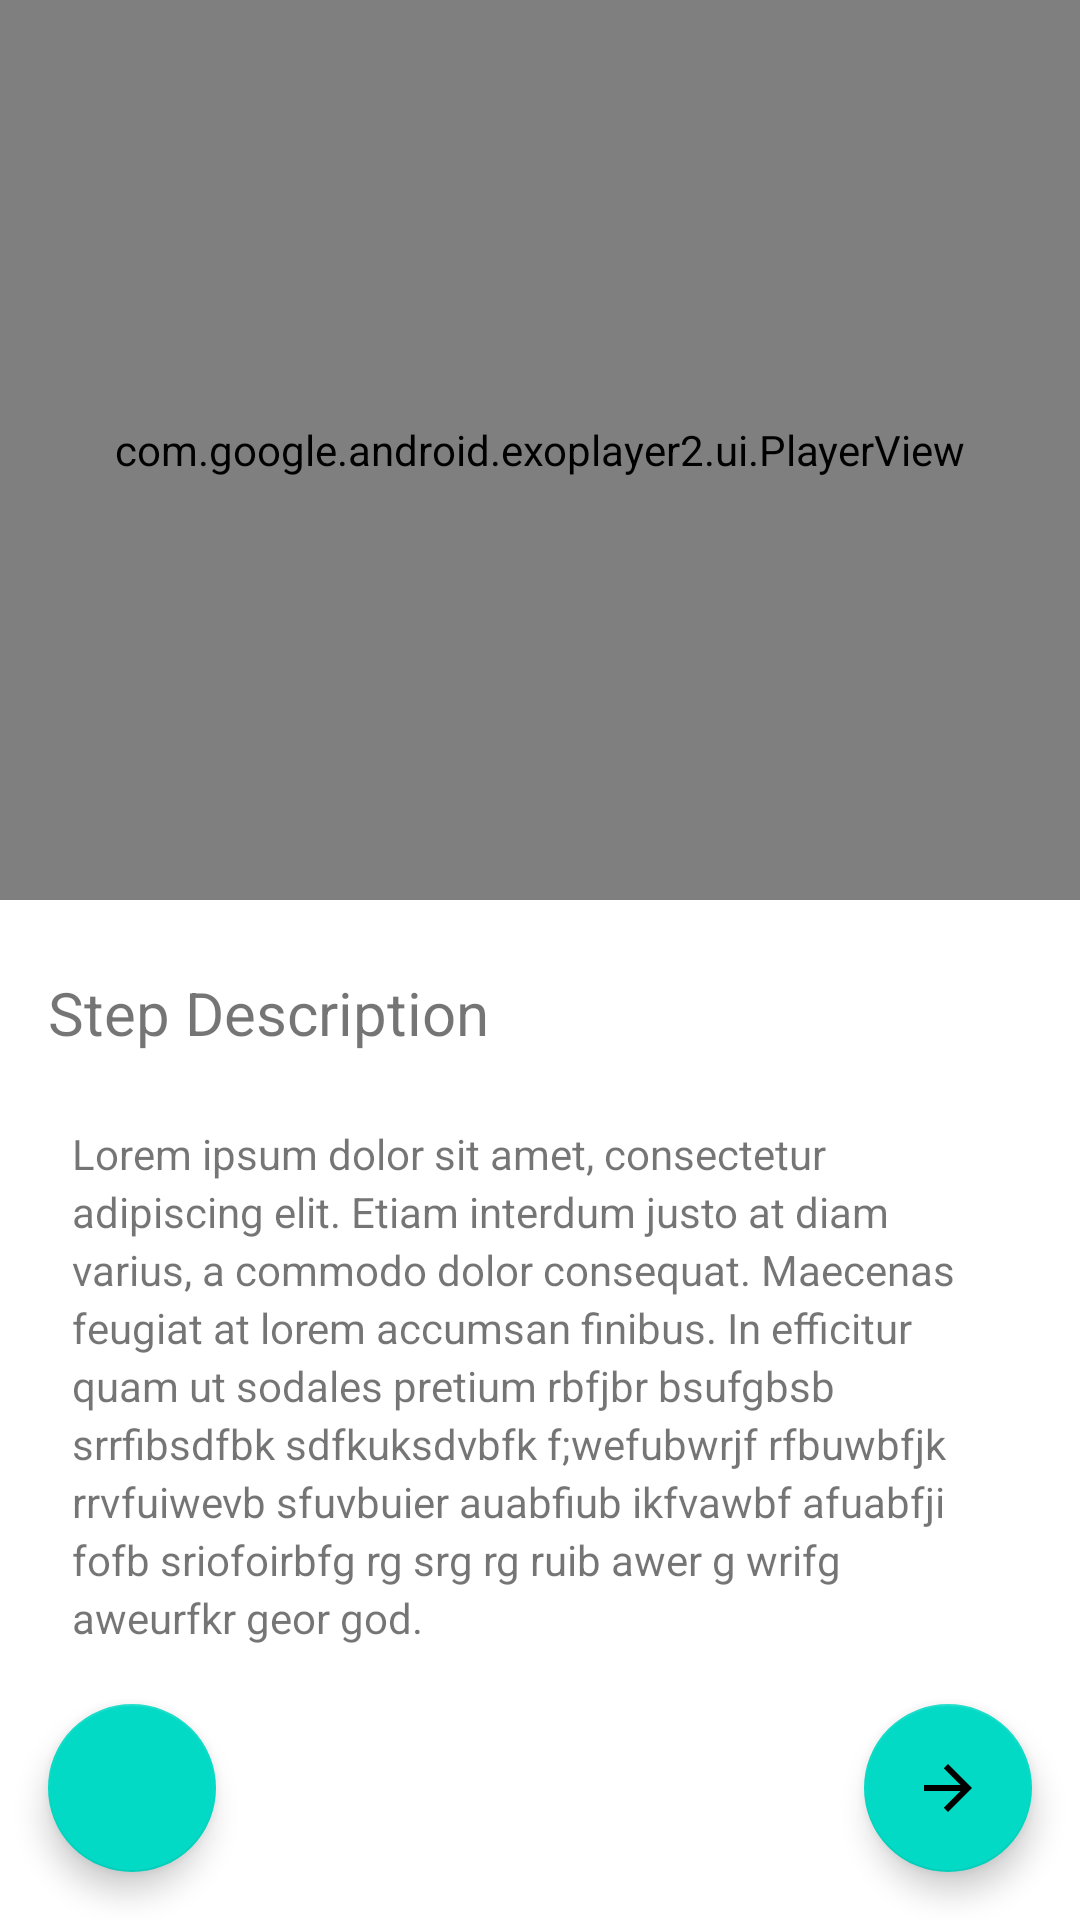

Icon bounding boxes for this 1080 x 1920 phone screenshot, format (x1, y1, x2, y2):
forward: (864, 1704, 1032, 1872)
